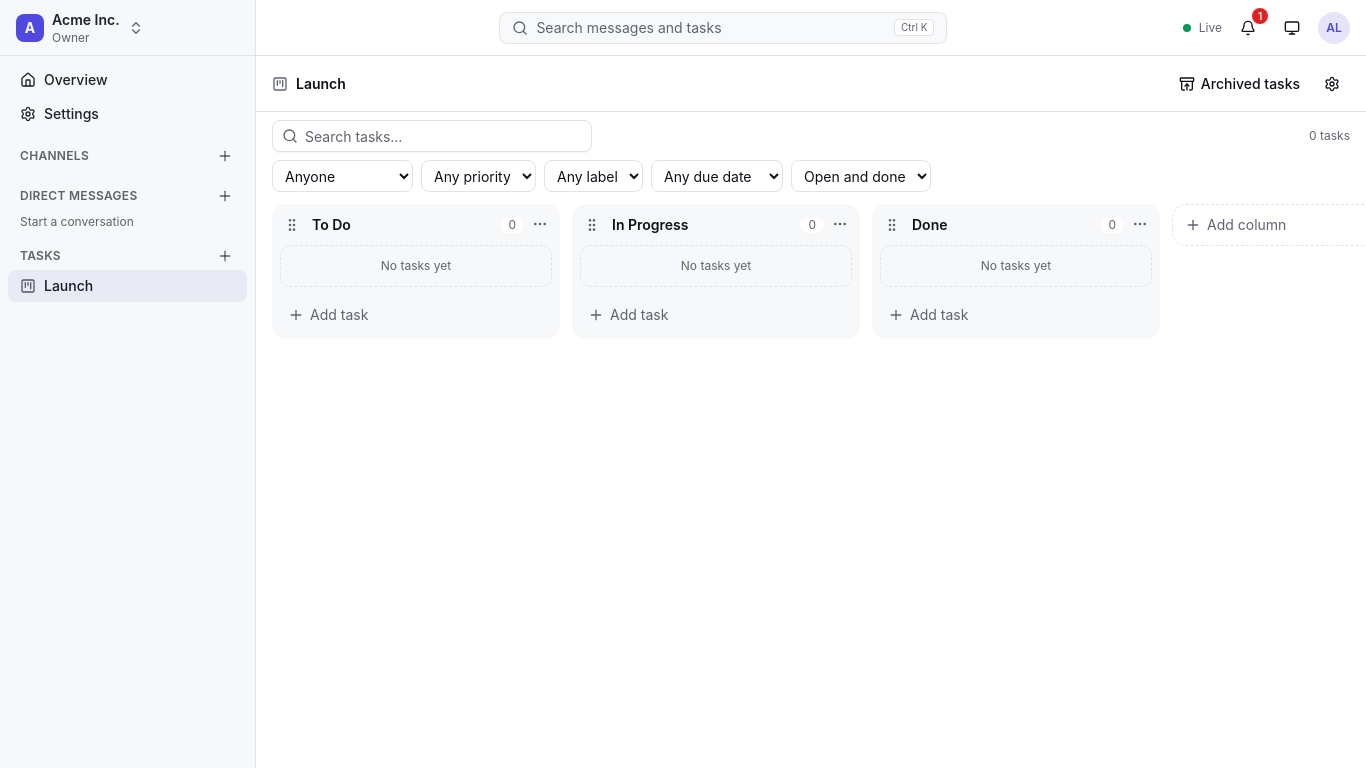
Scenario: notification bell › explains when a notification’s target no longer exists
Click the button named "Notifications, 1 unread" at [1248, 28], box [1230, 10, 1266, 46]
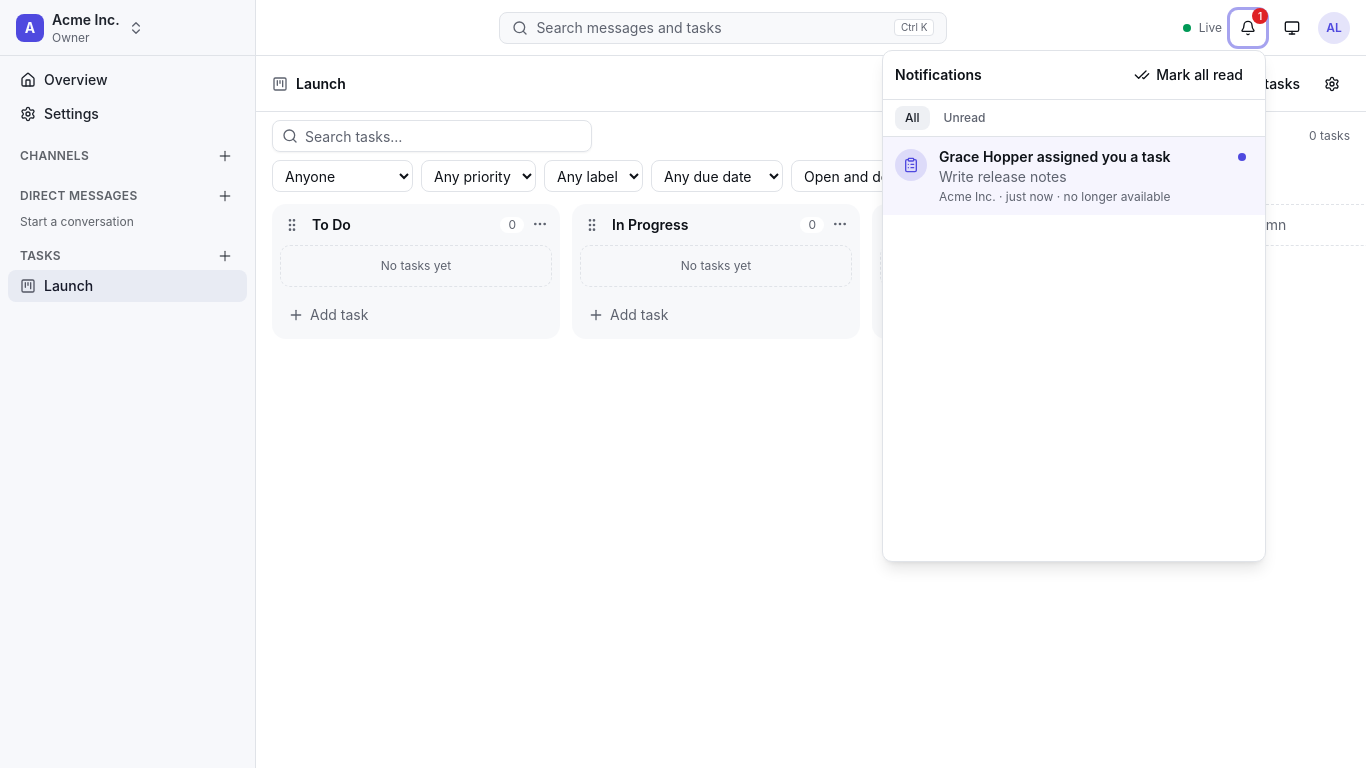
Click the button "assigned you a task" at [965, 155], box [939, 146, 1219, 204]
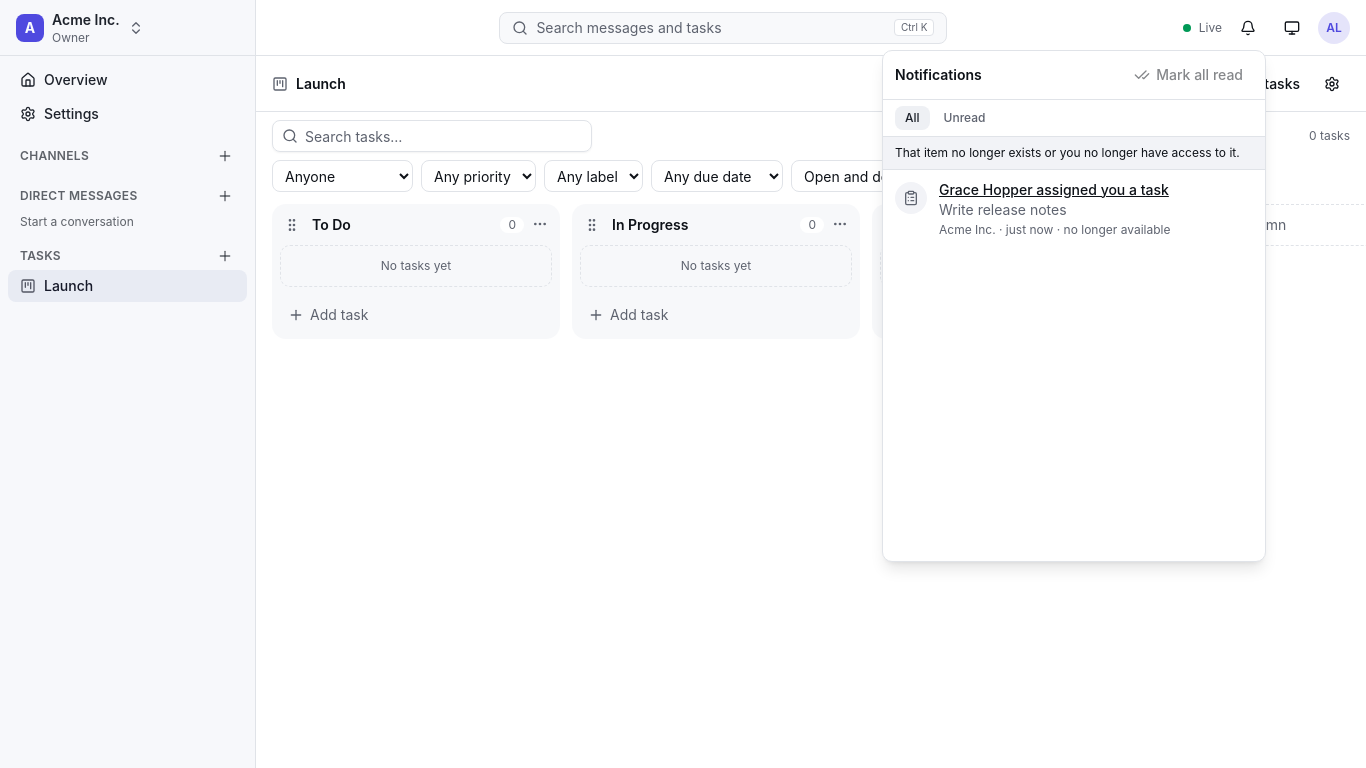
Now the message "That item no longer exists or you no longer have access to it." is shown, box [883, 136, 1265, 170]
